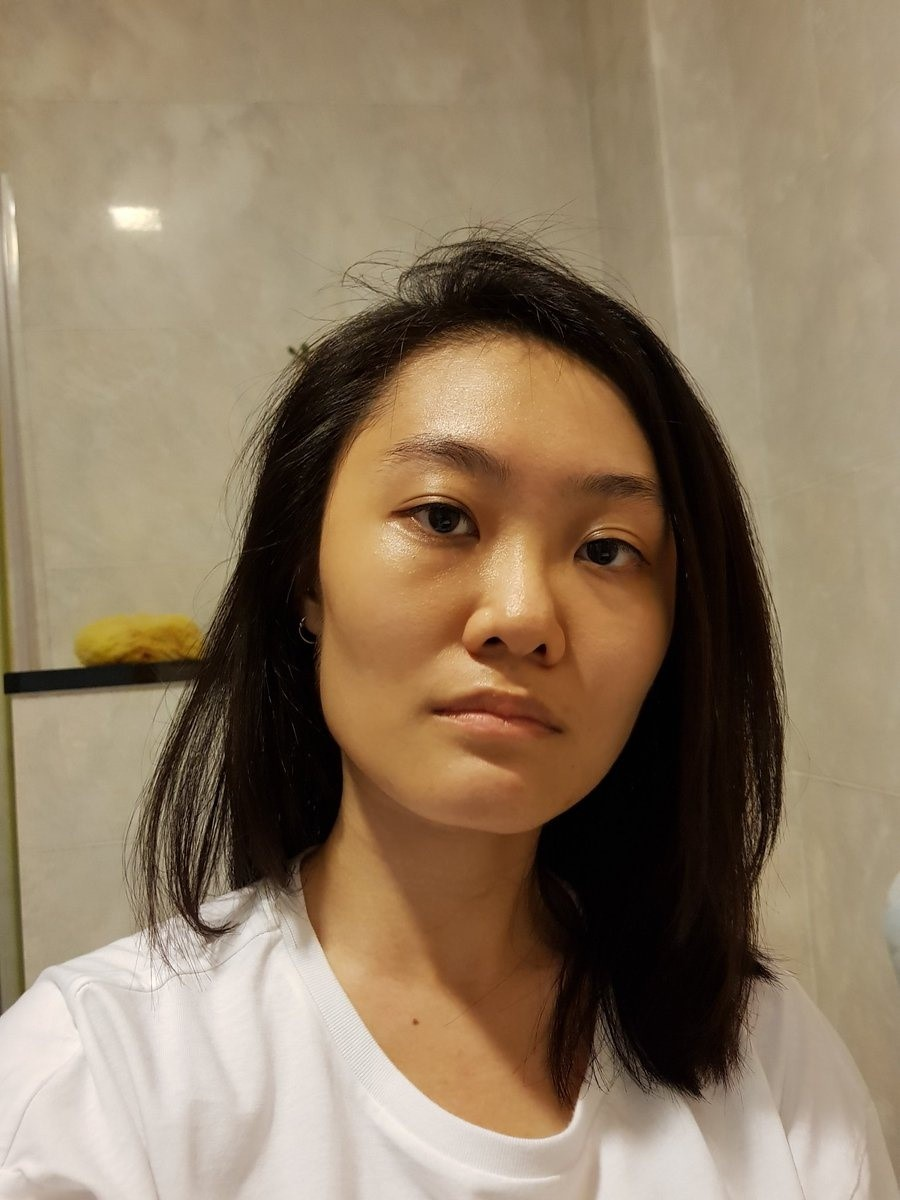face_no_mask: (294, 276, 703, 843)
